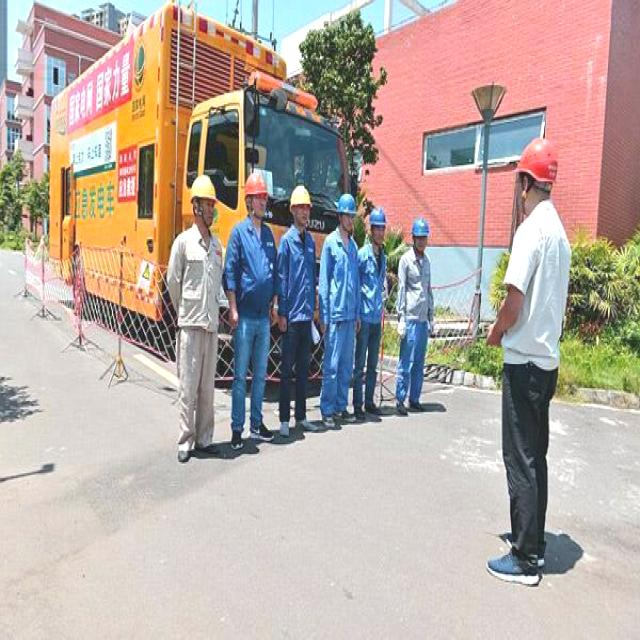face_nomask: (511, 173, 534, 209), (197, 197, 218, 226), (246, 194, 271, 217), (292, 200, 313, 223), (336, 213, 357, 231), (370, 223, 387, 242), (411, 236, 428, 250)
hand_glove: (394, 310, 408, 338)
hand_noglove: (479, 318, 500, 354), (268, 302, 282, 326), (277, 311, 289, 337), (230, 300, 241, 322), (319, 314, 328, 338)
head_helmet: (517, 140, 554, 172), (193, 177, 212, 196), (245, 172, 266, 189), (367, 202, 384, 223), (290, 183, 307, 200), (336, 192, 351, 204), (415, 222, 426, 234)
person: (499, 138, 562, 600), (237, 175, 271, 439), (187, 175, 212, 455), (284, 183, 310, 423), (397, 214, 428, 412), (329, 189, 352, 425), (362, 204, 384, 422)
shoes: (484, 547, 546, 589), (195, 434, 222, 466), (247, 419, 277, 444), (293, 413, 319, 437), (331, 402, 357, 424), (228, 429, 247, 455), (320, 408, 338, 434), (173, 439, 190, 466), (364, 395, 384, 417), (350, 402, 367, 427), (408, 394, 425, 416), (278, 416, 293, 439), (394, 398, 410, 418)
